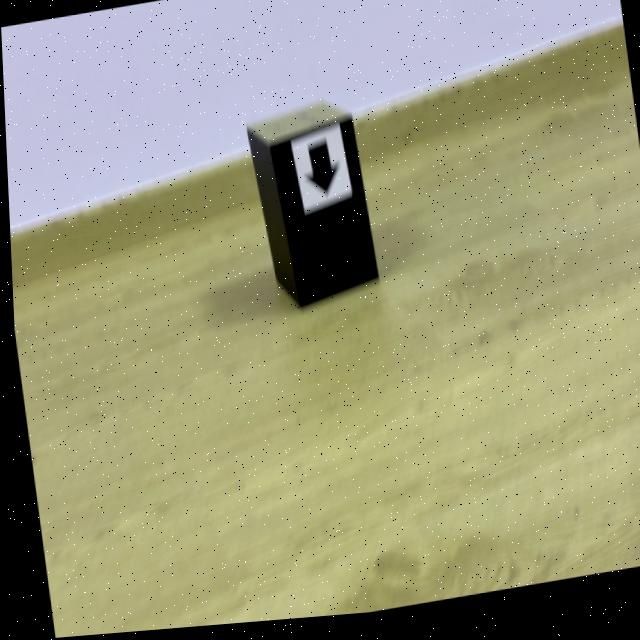DOWN: (300, 141, 337, 200)
